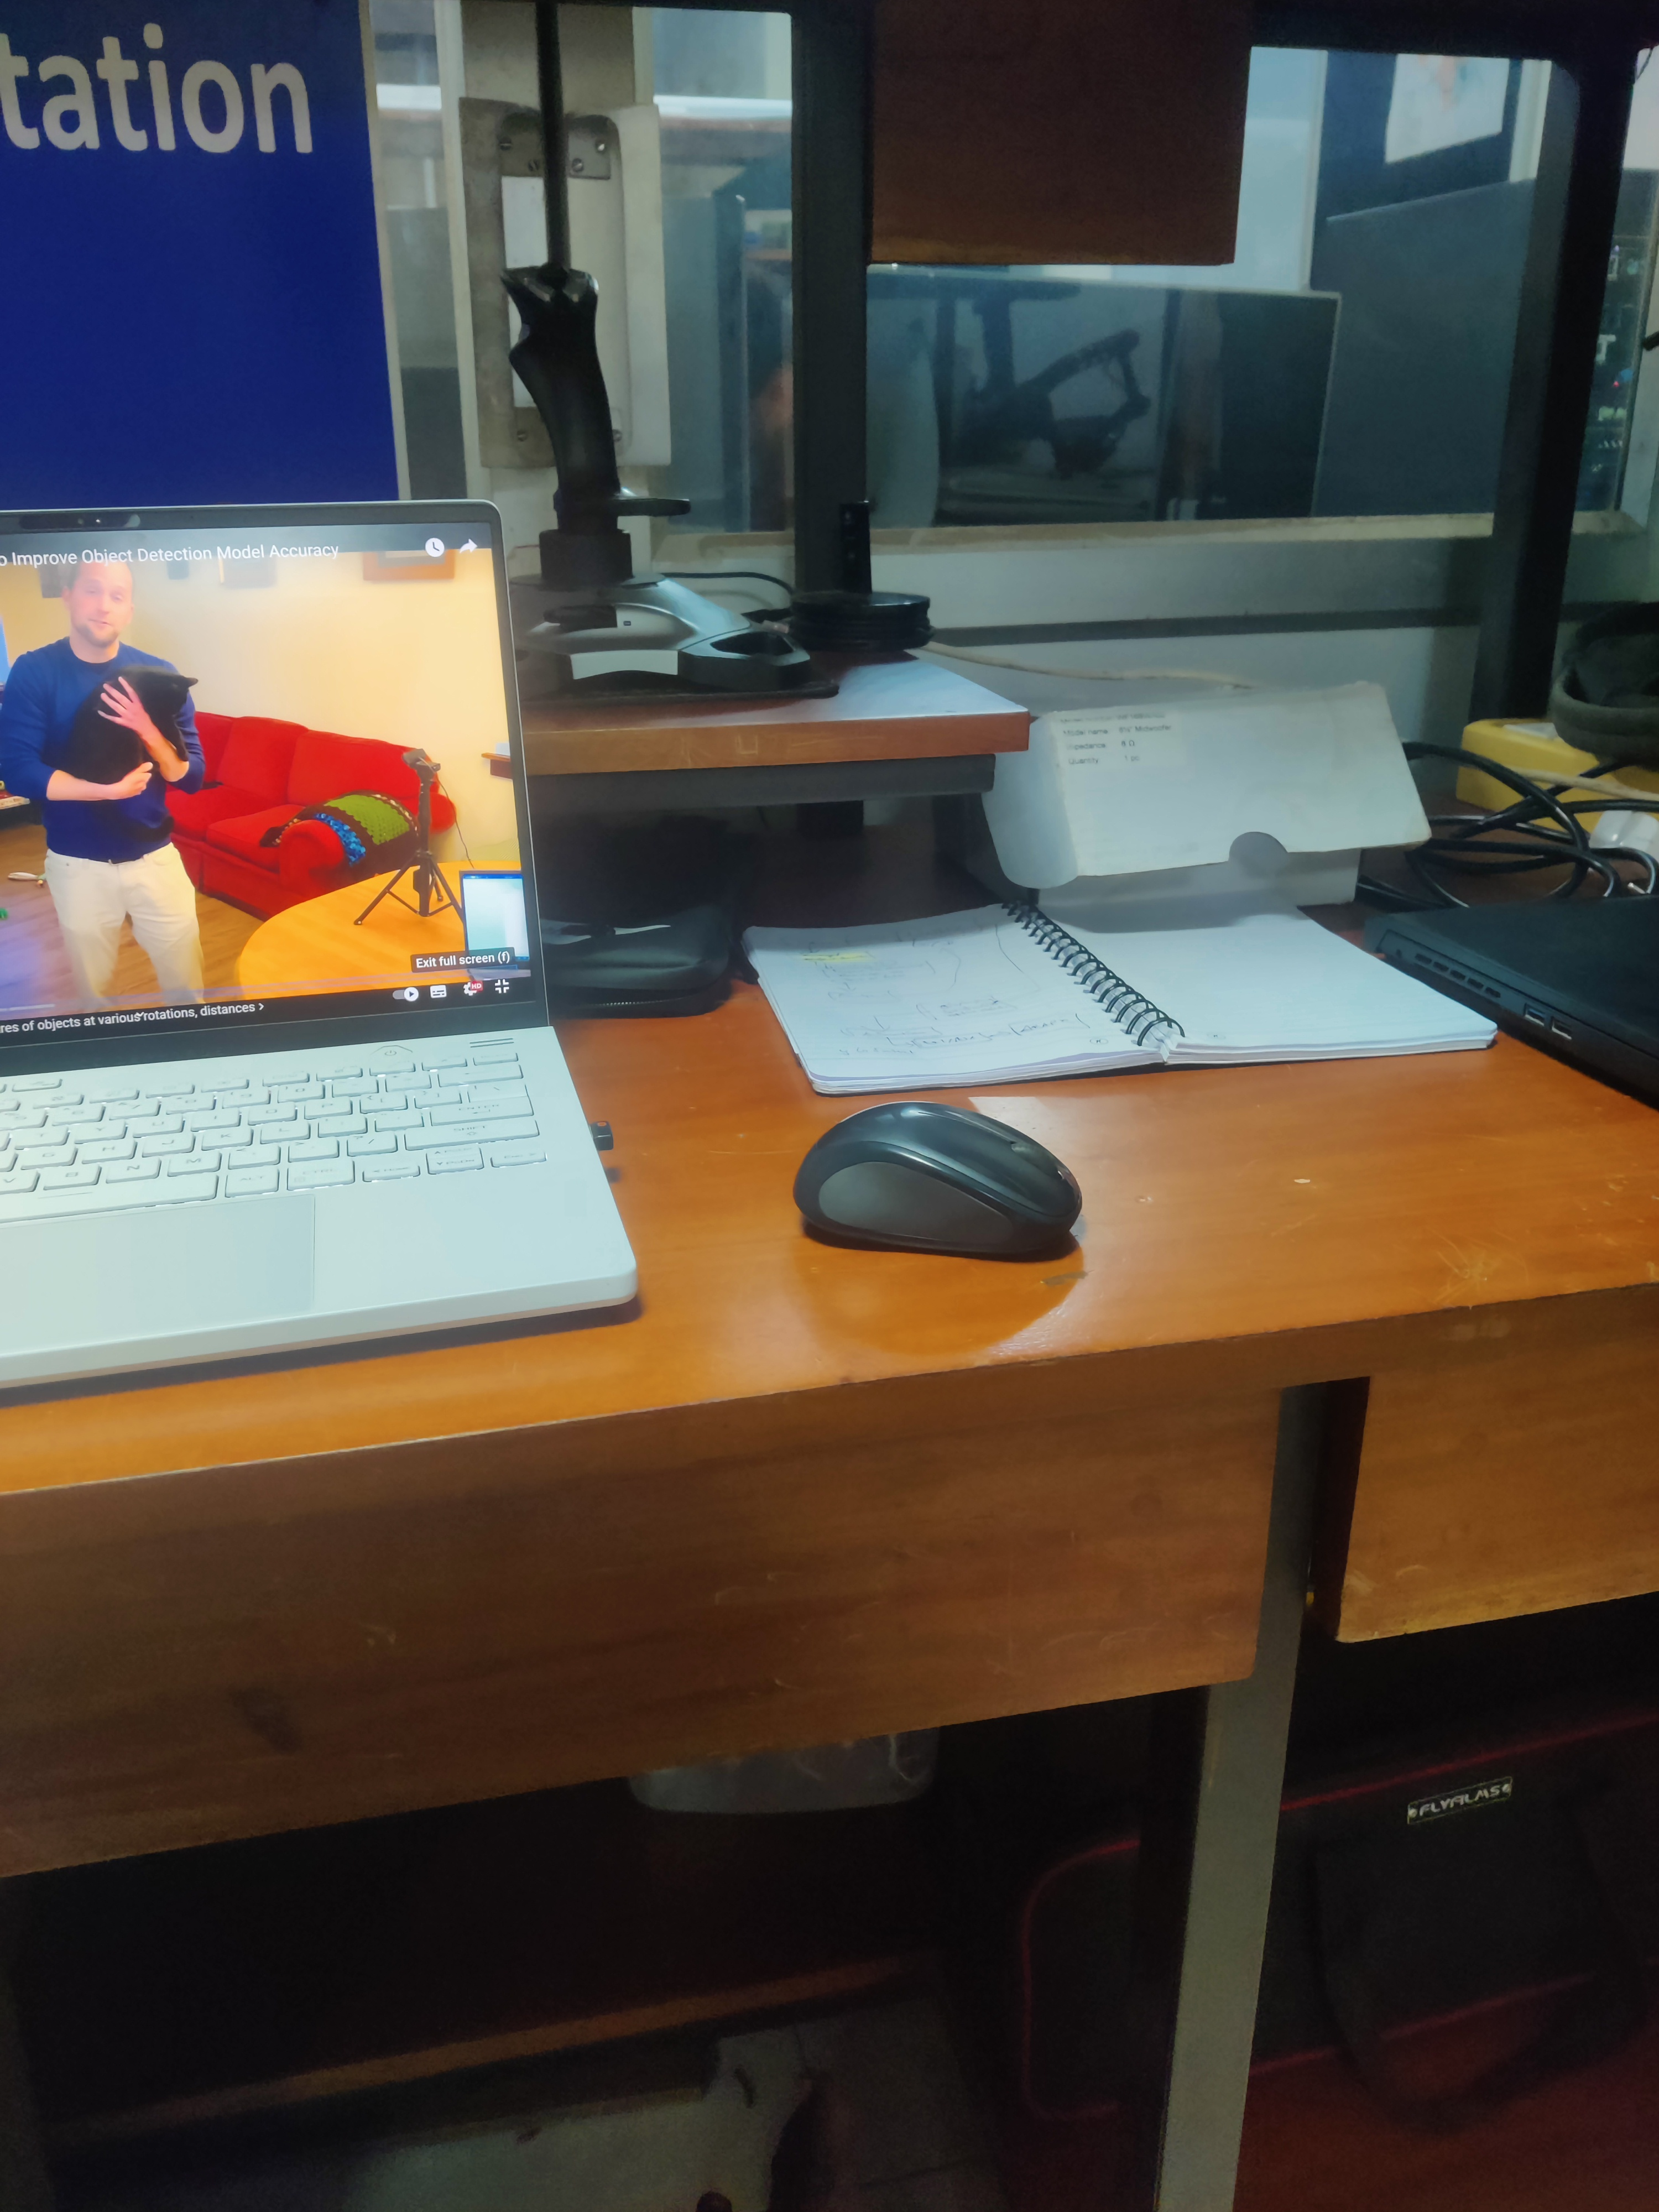logitechMouse: (789, 1092, 1091, 1266)
